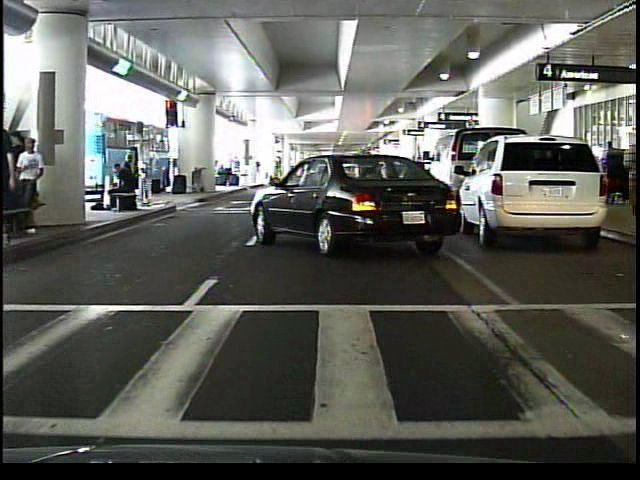person: (102, 161, 138, 215), (620, 131, 637, 232)
